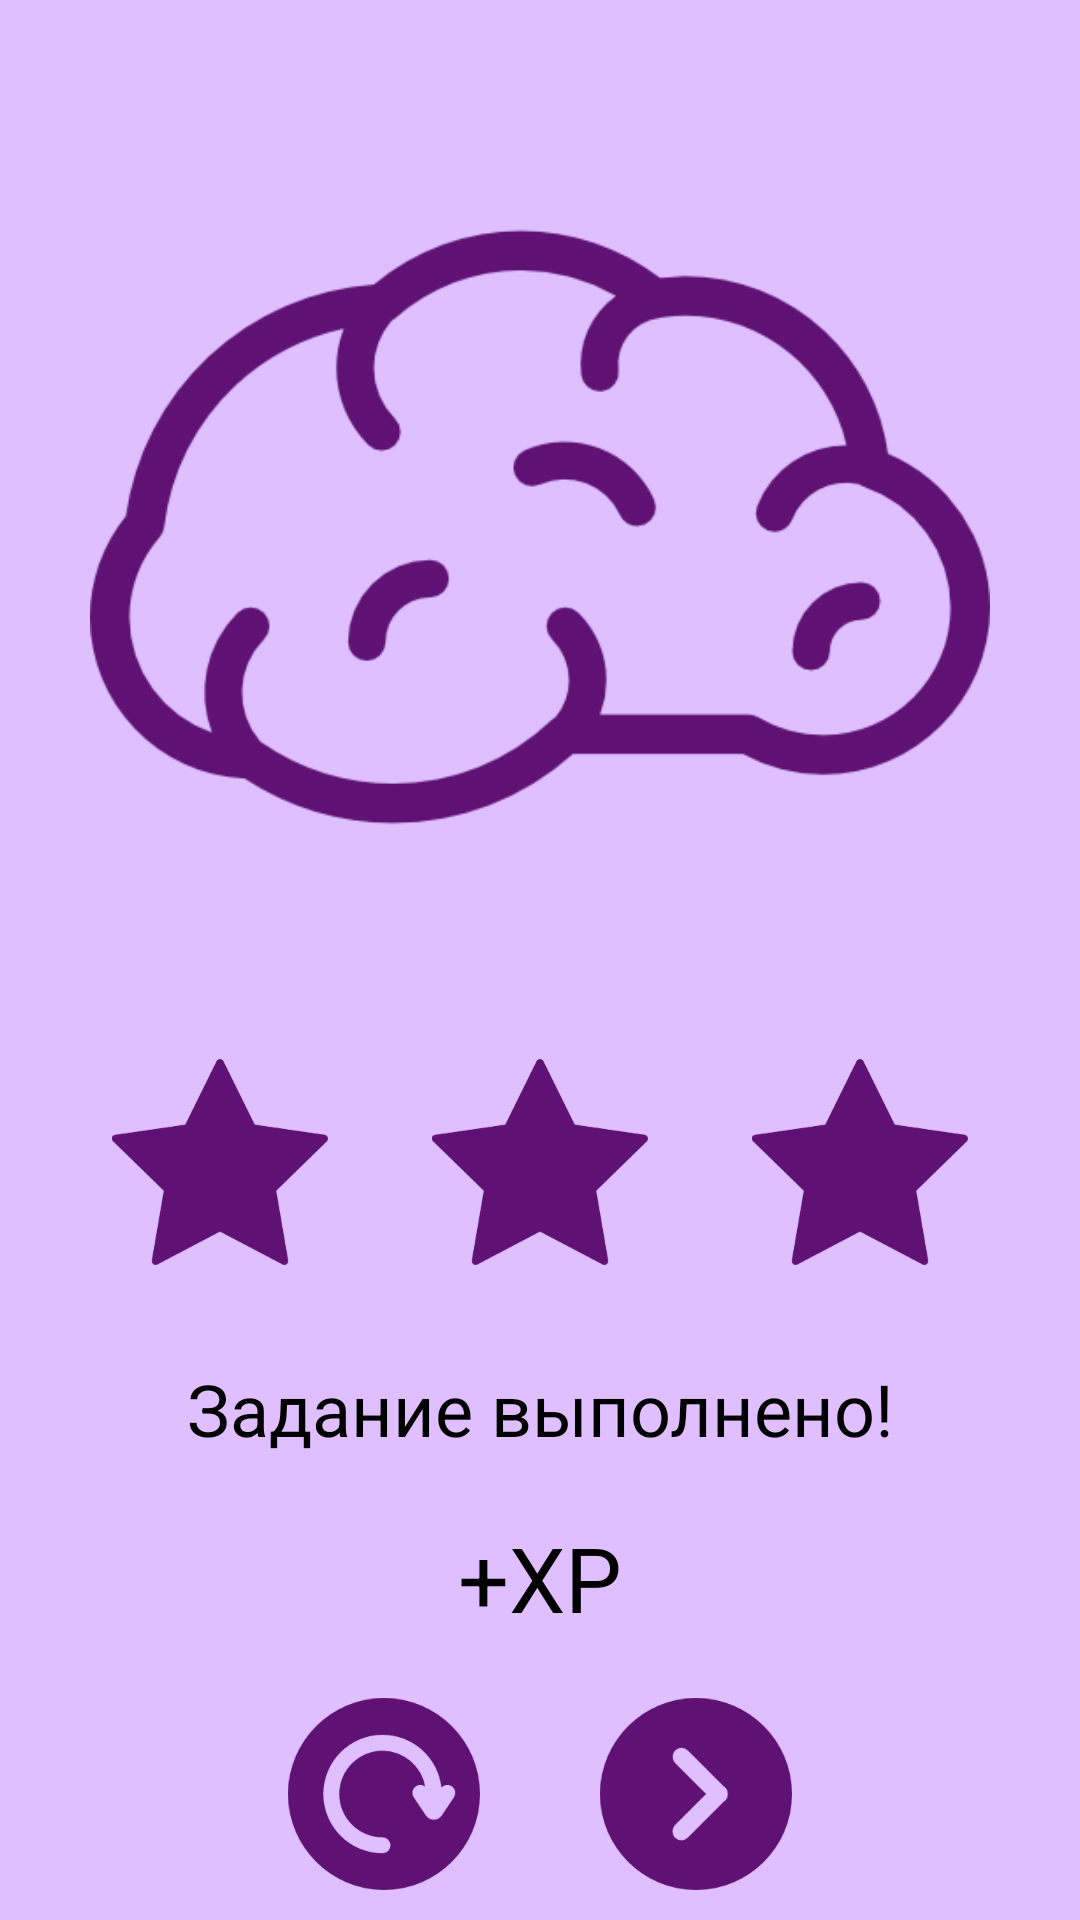

Icon click points for this 1080×1920 phone screenshot, format (x=x, y=y):
again: (x=384, y=1794)
arrow: (x=696, y=1794)
star: (x=220, y=1162), (x=540, y=1162), (x=860, y=1162)
